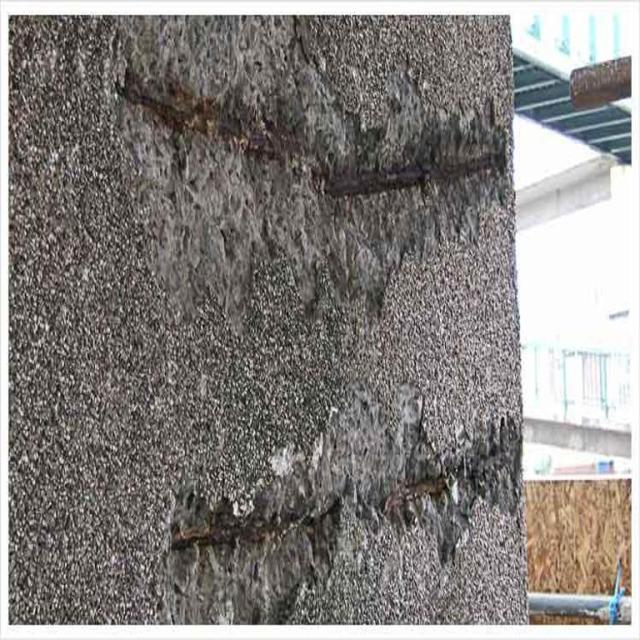spalling: (101, 15, 514, 335), (155, 379, 524, 625)
